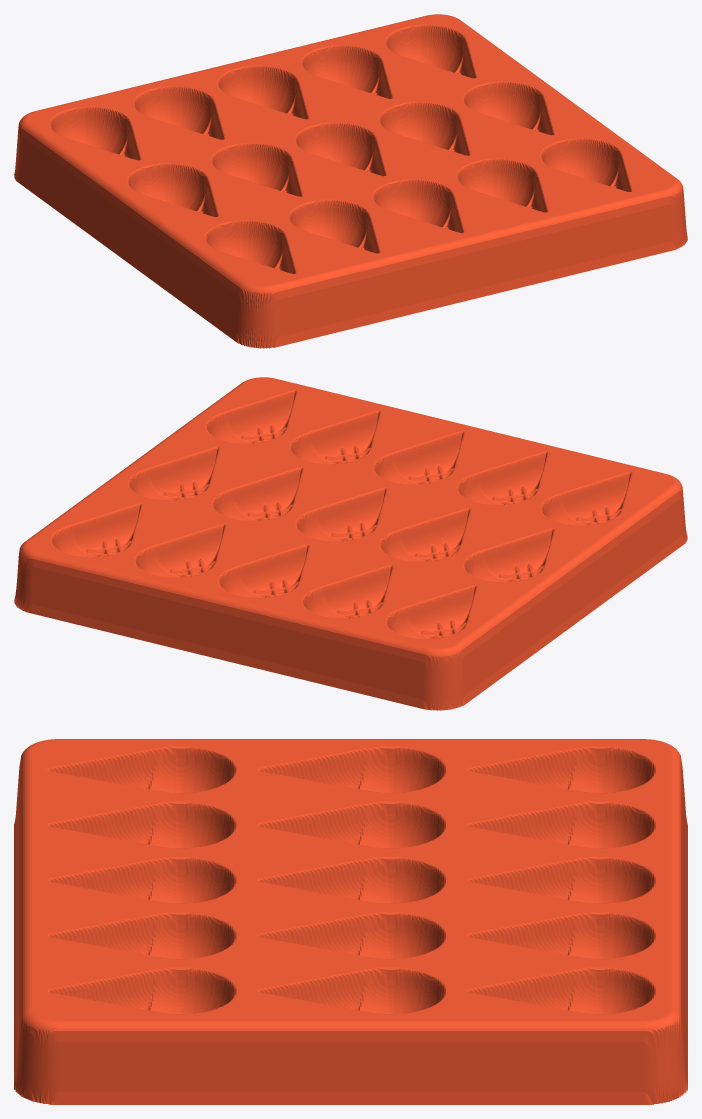
The model's file is mold.glb.
3 views of the same model, one above another, from view 1: azimuth 30°, elevation 25°; view 2: azimuth 150°, elevation 25°; view 3: azimuth 270°, elevation 25° (orthographic). The views are drawn at different scales.
Visible parts, largest first — view 1: geometry_0; view 2: geometry_0; view 3: geometry_0.
Boxes of the visible parts, bbox=[...] form: geometry_0: bbox=[14, 14, 687, 348]; geometry_0: bbox=[14, 377, 687, 710]; geometry_0: bbox=[14, 739, 687, 1104].
Size of the model in its own units: 0.1444 by 0.0175 by 0.1392.
